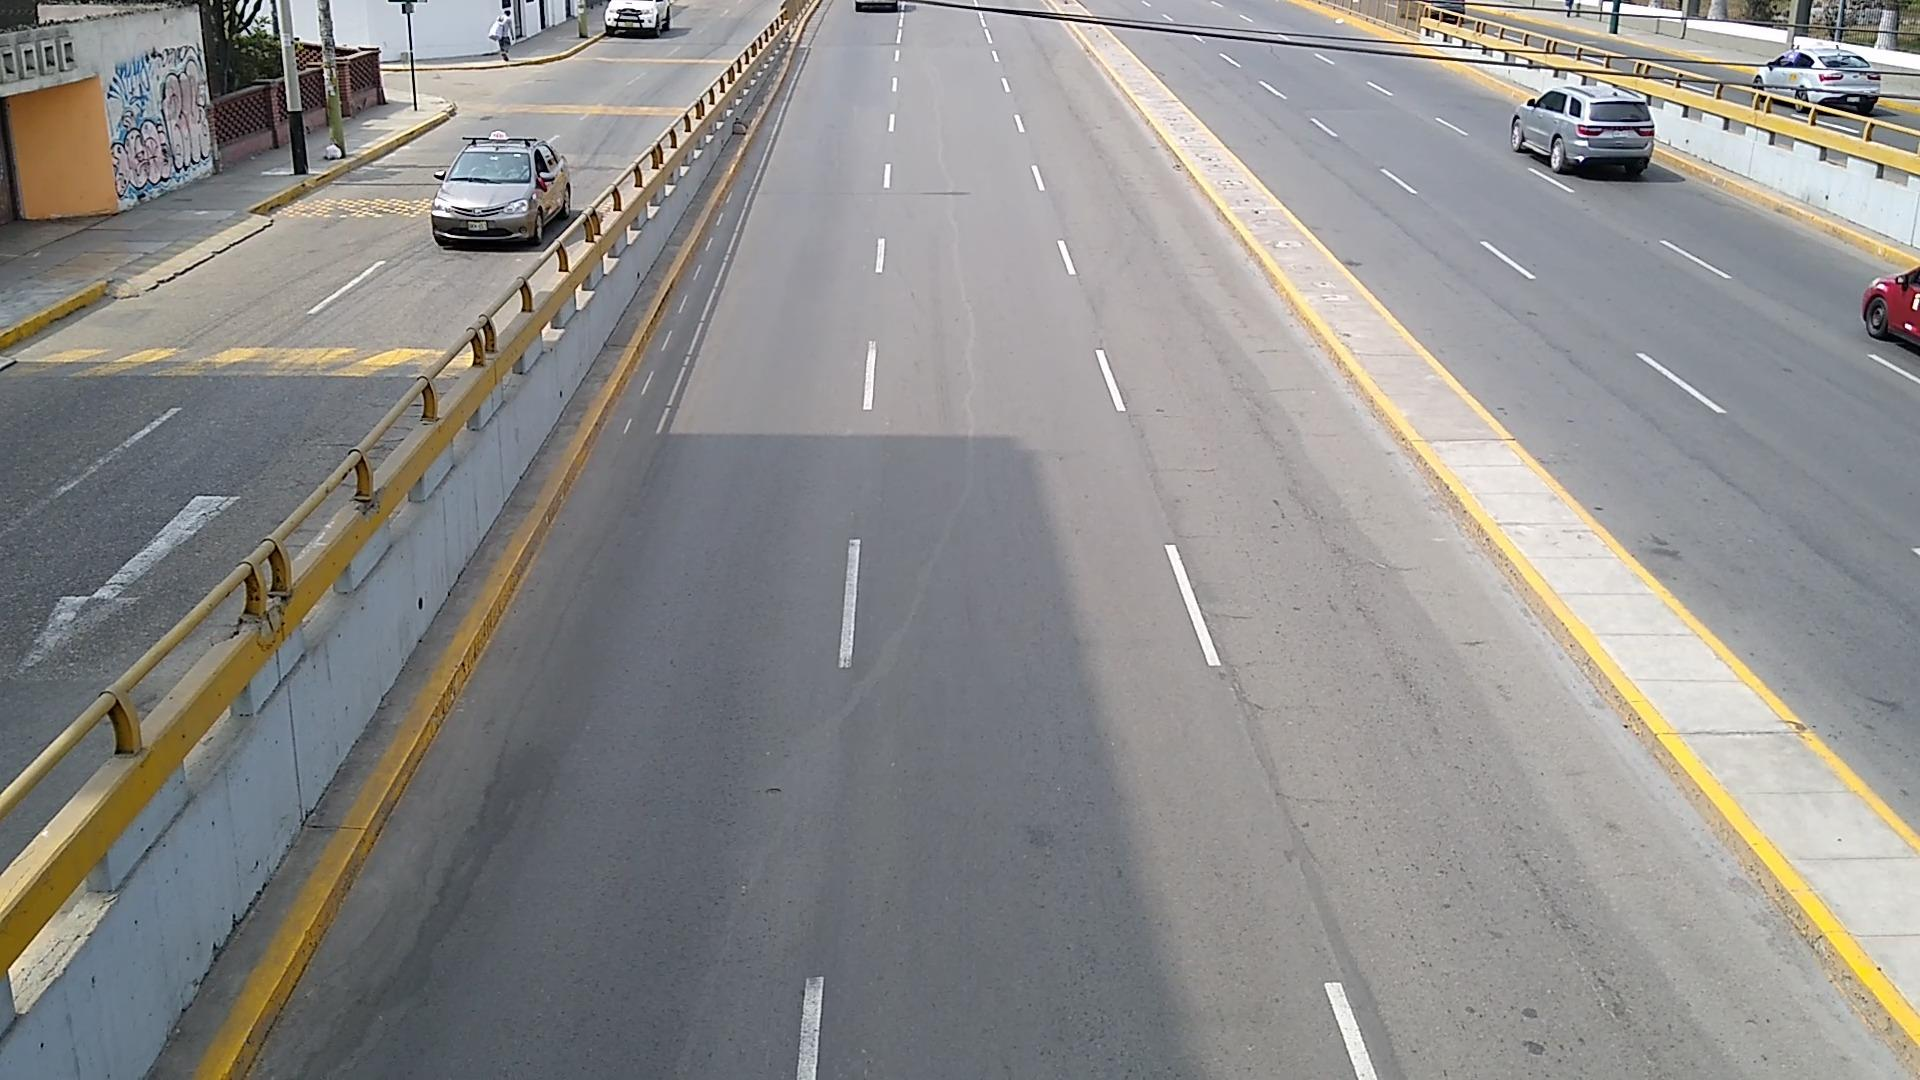car: (431, 132, 570, 241), (1511, 83, 1654, 177), (1755, 45, 1879, 112), (604, 0, 671, 34)
